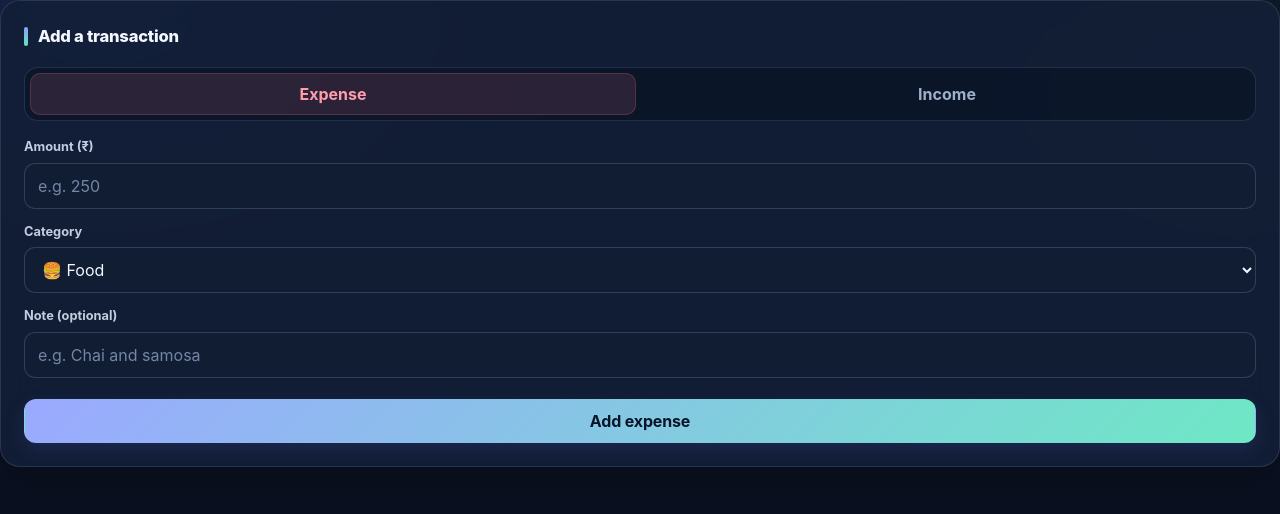
AddTransaction › shows an accessible error when the amount is empty
Click the button "Add expense" at (640, 421), box [24,399,1256,443]
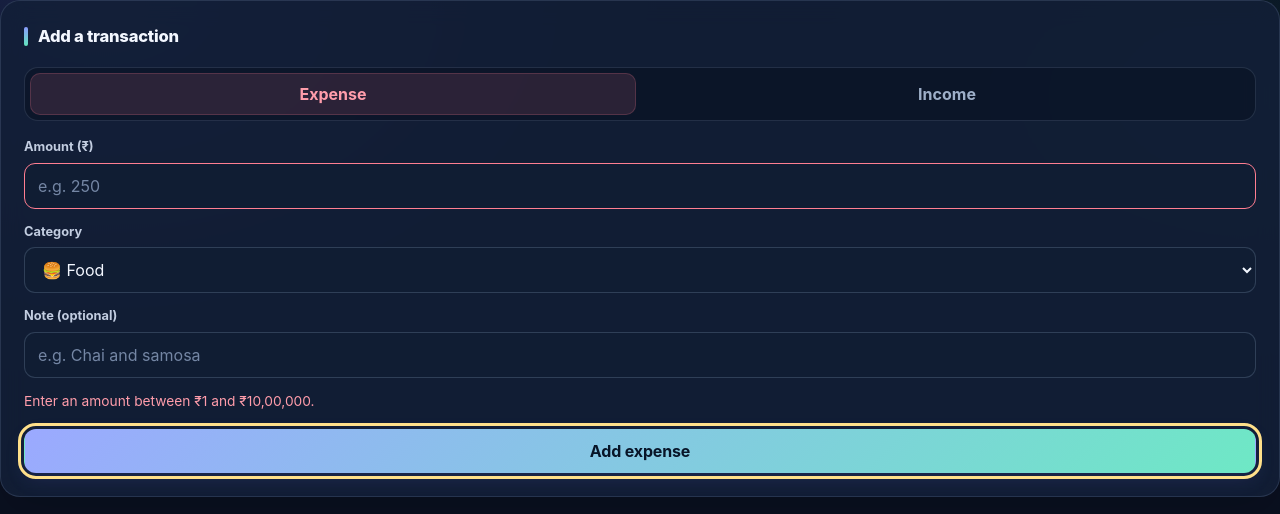
Now the message shows "amount", box [24,393,315,409]
